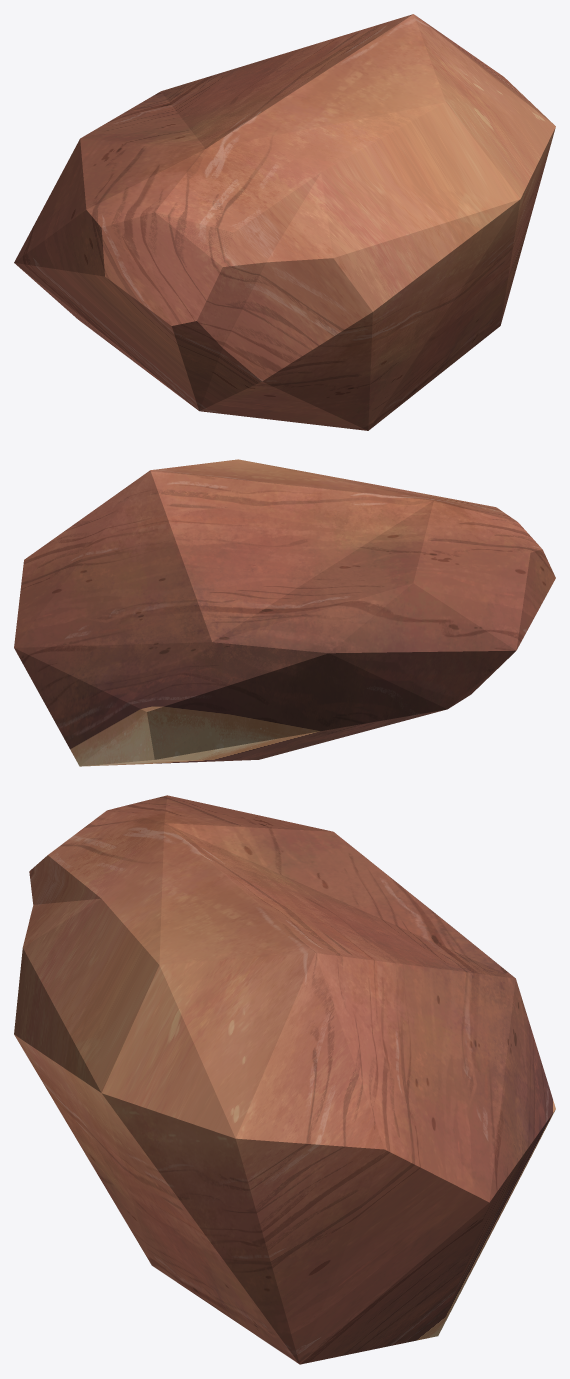
The model's file is rock_3_001.fbx.
3 renders of one model, top to bottom at view 1: azimuth 30°, elevation 25°; view 2: azimuth 150°, elevation 25°; view 3: azimuth 270°, elevation 25°, orthographic. The views are drawn at different scales.
Visible parts, largest first — view 1: rock 3.001; view 2: rock 3.001; view 3: rock 3.001.
Part boxes in pixels (<box>): rock 3.001: <box>14,14,555,430</box>; rock 3.001: <box>14,459,555,766</box>; rock 3.001: <box>14,795,555,1364</box>.
Bounding box in the file's own units: 3481 × 2152 × 2676.
